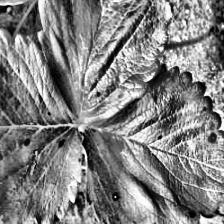Leaf Spot: (80, 63, 224, 224), (36, 0, 175, 123), (0, 28, 84, 224)
